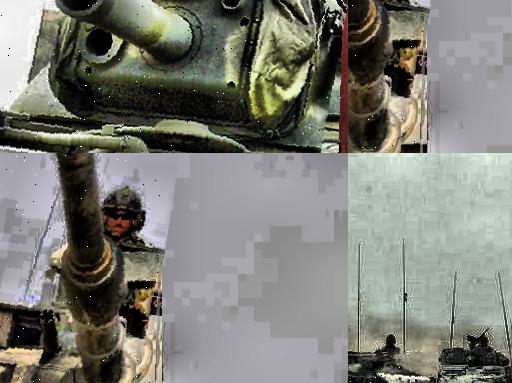tanks: (1, 1, 349, 154), (1, 154, 163, 383), (349, 1, 428, 154), (437, 334, 512, 383), (349, 355, 437, 383)
